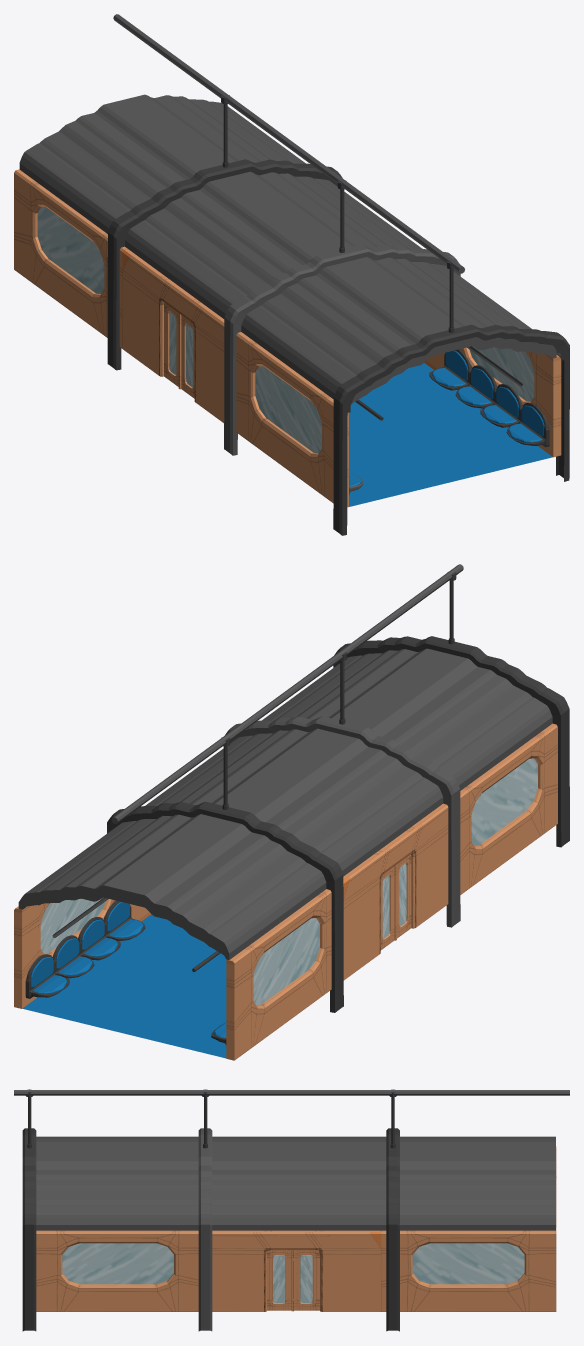
The model's file is Vagao.fbx.
The picture shows the model from 3 angles, top to bottom: view 1: azimuth 30°, elevation 25°; view 2: azimuth 150°, elevation 25°; view 3: azimuth 270°, elevation 25°; orthographic projection. The views are drawn at different scales.
Parts seen in each view (by area): view 1: Teto, Plane.002, Vagao_Porta.002, Vagao_Janela.006, Vagao_Janela.004, Divisória.001, Divisória, Cylinder.005, Janela_P.006, Janela_P.007, Vagao_Janela.001, Janela_P.002 (+4 smaller); view 2: Teto, Plane.002, Vagao_Porta.002, Vagao_Janela.004, Vagao_Janela.006, Divisória, Divisória.001, Cylinder.005, Janela_P.007, Janela_P.006, Vagao_Janela.005, Janela_P.005 (+4 smaller); view 3: Teto, Vagao_Porta, Vagao_Janela.001, Vagao_Janela.005, Janela_P.005, Janela_P.002, Cylinder.005, Divisória.001, Divisória, Porta_E.002, Porta_E, Janela_E (+1 smaller).
Part boxes in pixels (x1,y1,x2,y2): Teto: [19, 94, 556, 455]; Plane.002: [349, 363, 552, 506]; Vagao_Porta.002: [122, 249, 224, 422]; Vagao_Janela.006: [236, 332, 348, 507]; Vagao_Janela.004: [14, 169, 127, 348]; Divisória.001: [333, 324, 569, 535]; Divisória: [107, 159, 342, 370]; Cylinder.005: [113, 14, 464, 273]; Janela_P.006: [37, 206, 104, 293]; Janela_P.007: [255, 366, 321, 453]; Vagao_Janela.001: [444, 347, 561, 457]; Janela_P.002: [470, 346, 534, 401]; Teto: [18, 648, 552, 959]; Plane.002: [22, 914, 226, 1058]; Vagao_Porta.002: [343, 803, 448, 980]; Vagao_Janela.004: [226, 889, 331, 1060]; Vagao_Janela.006: [460, 723, 557, 894]; Divisória: [107, 801, 343, 1012]; Divisória.001: [333, 636, 569, 847]; Cylinder.005: [112, 564, 463, 823]; Janela_P.007: [471, 758, 537, 845]; Janela_P.006: [253, 918, 319, 1005]; Vagao_Janela.005: [14, 899, 131, 1008]; Janela_P.005: [40, 897, 104, 953]; Teto: [36, 1128, 555, 1331]; Vagao_Porta: [212, 1230, 381, 1311]; Vagao_Janela.001: [36, 1230, 198, 1311]; Vagao_Janela.005: [381, 1229, 556, 1311]; Janela_P.005: [412, 1243, 524, 1284]; Janela_P.002: [62, 1243, 173, 1284]; Cylinder.005: [14, 1090, 569, 1095]; Divisória.001: [22, 1128, 36, 1331]; Divisória: [386, 1128, 399, 1331]; Porta_E.002: [293, 1250, 319, 1311]; Porta_E: [267, 1250, 292, 1311]; Janela_E: [273, 1255, 285, 1303].
Bounding box in the file's own units: 728 × 740 × 1888.
